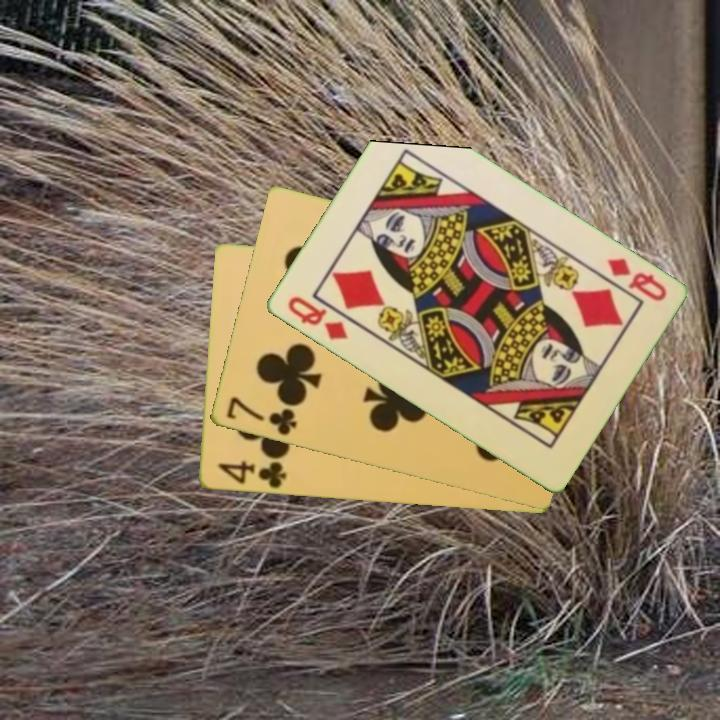4c: (213, 457, 289, 492)
7c: (222, 393, 299, 439)
Qd: (283, 292, 351, 343), (603, 254, 669, 305)
